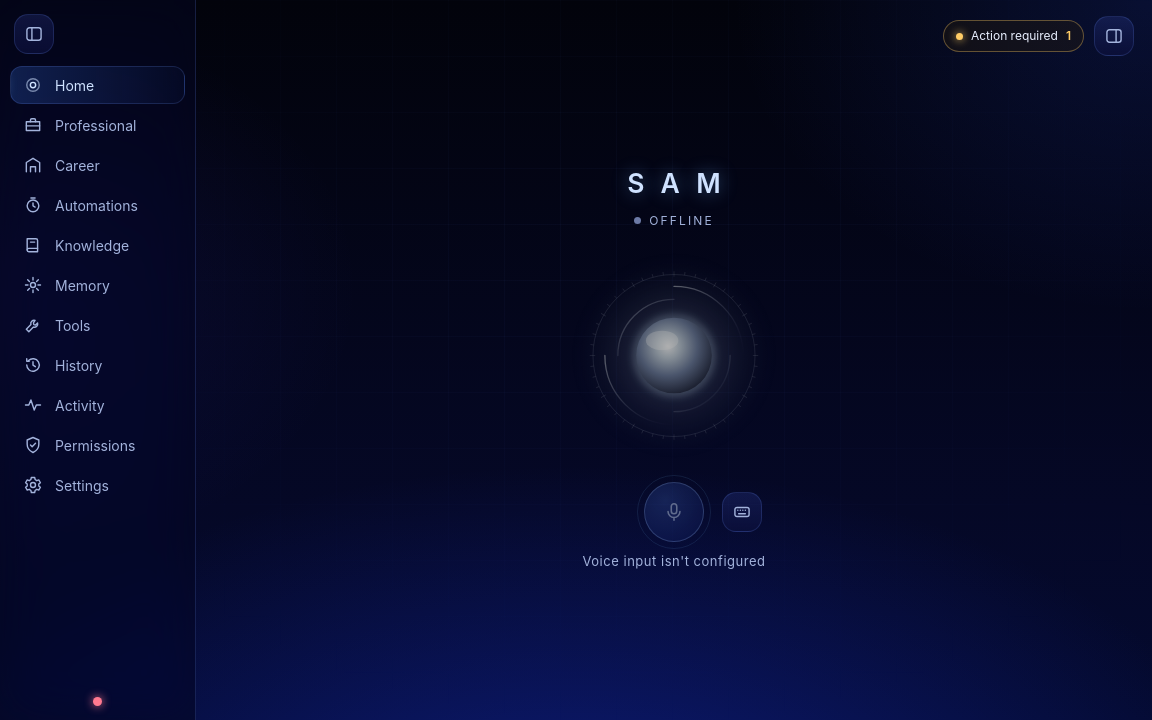
Test: shell and connection › shows Unavailable when the backend can't be reached
The image size is (1152, 720).
Check: the message named "Connection: Unavailable" is shown, box x1=93 y1=697 x2=102 y2=706
Check: the picture named "Sam is offline" is shown, box x1=566 y1=245 x2=782 y2=466
Click the button with aria-label "Action required: 1". click: click(1014, 36)
box: x1=943 y1=20 x2=1084 y2=52
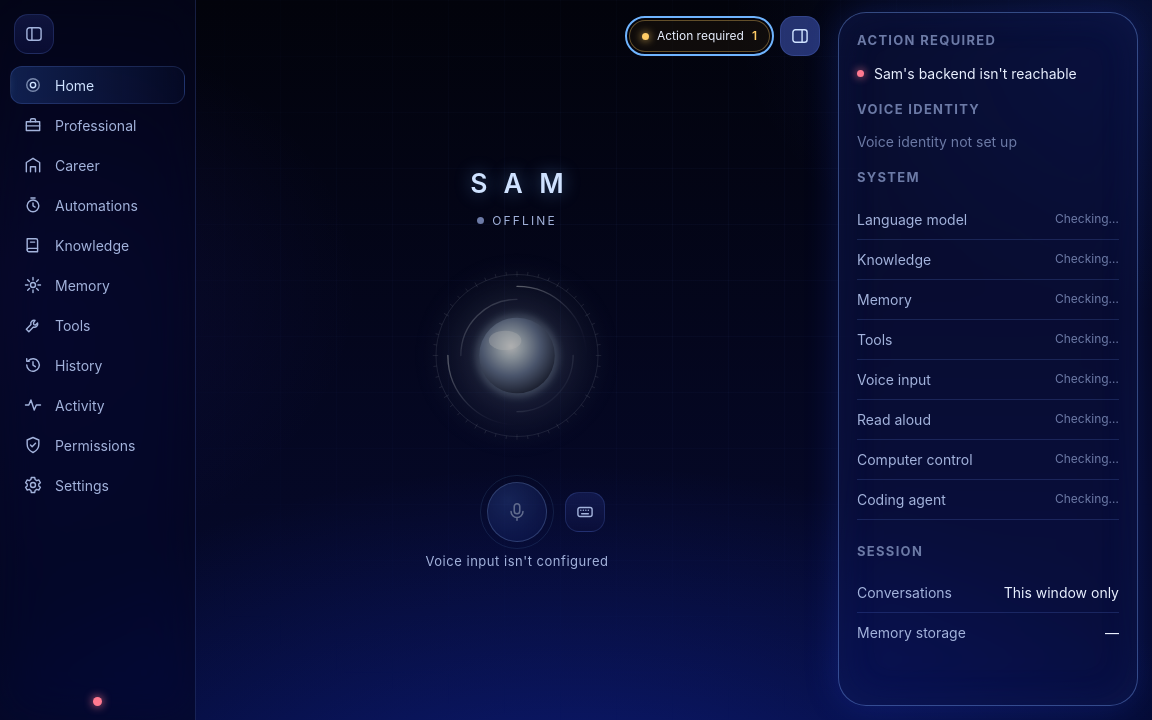
Check: the text "Sam's backend isn't reachable" is shown, box x1=874 y1=62 x2=1077 y2=84
